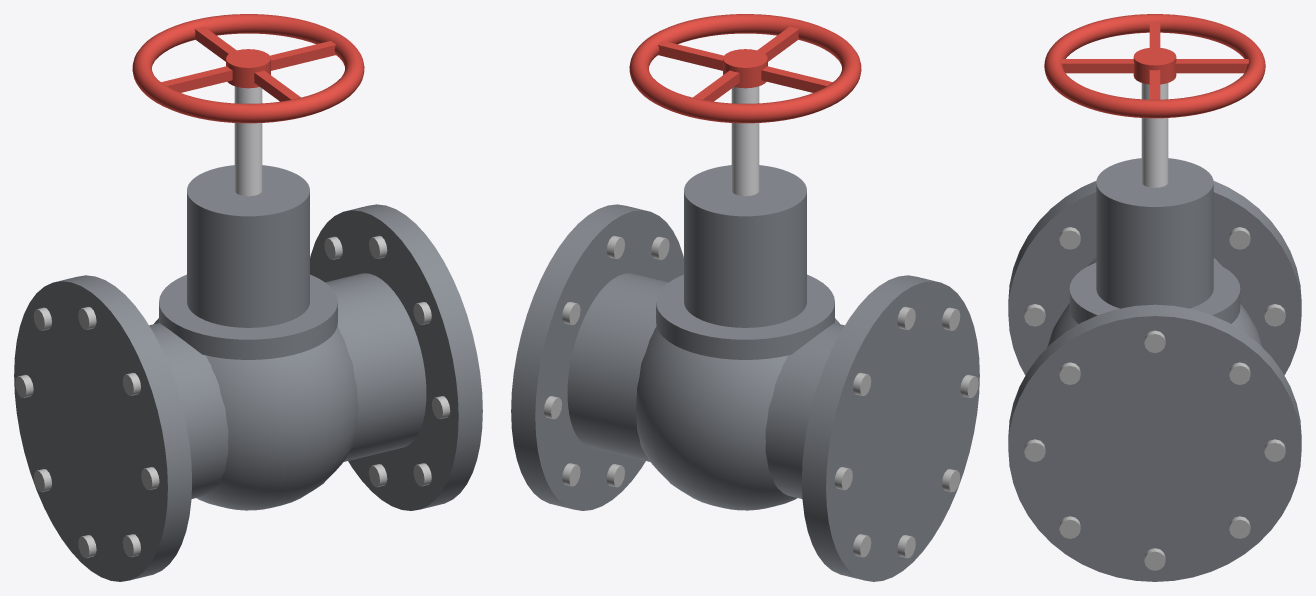
Rendered from valvula_compuerta.glb.
The picture shows the model from 3 angles, left to right: view 1: azimuth 30°, elevation 25°; view 2: azimuth 150°, elevation 25°; view 3: azimuth 270°, elevation 25°; orthographic projection. The views are drawn at different scales.
Parts seen in each view (by area): view 1: brida_izquierda, cuerpo, bonete, brida_derecha, volante, bulones_izquierda, vastago, bulones_derecha; view 2: brida_izquierda, cuerpo, bonete, brida_derecha, volante, bulones_izquierda, vastago, bulones_derecha; view 3: brida_derecha, bonete, brida_izquierda, volante, bulones_derecha, vastago, bulones_izquierda, cuerpo.
Boxes of the visible parts, x1=… form: brida_izquierda: x1=14, y1=275, x2=192, y2=581; cuerpo: x1=149, y1=273, x2=426, y2=510; bonete: x1=159, y1=165, x2=337, y2=359; brida_derecha: x1=310, y1=204, x2=482, y2=510; volante: x1=132, y1=14, x2=364, y2=123; bulones_izquierda: x1=15, y1=306, x2=159, y2=558; vastago: x1=234, y1=86, x2=262, y2=196; bulones_derecha: x1=324, y1=236, x2=450, y2=487; brida_izquierda: x1=801, y1=275, x2=979, y2=581; cuerpo: x1=567, y1=273, x2=844, y2=510; bonete: x1=656, y1=165, x2=834, y2=359; brida_derecha: x1=511, y1=204, x2=683, y2=510; volante: x1=629, y1=14, x2=861, y2=123; bulones_izquierda: x1=834, y1=306, x2=978, y2=558; vastago: x1=731, y1=86, x2=759, y2=196; bulones_derecha: x1=543, y1=236, x2=669, y2=487; brida_derecha: x1=1008, y1=304, x2=1301, y2=581; bonete: x1=1069, y1=158, x2=1240, y2=323; brida_izquierda: x1=1008, y1=180, x2=1301, y2=375; volante: x1=1044, y1=14, x2=1265, y2=118; bulones_derecha: x1=1024, y1=330, x2=1285, y2=570; vastago: x1=1141, y1=83, x2=1168, y2=187; bulones_izquierda: x1=1024, y1=227, x2=1285, y2=326; cuerpo: x1=1047, y1=258, x2=1262, y2=347.
Size of the model in its own units: 1.36 by 1.87 by 1.1.
